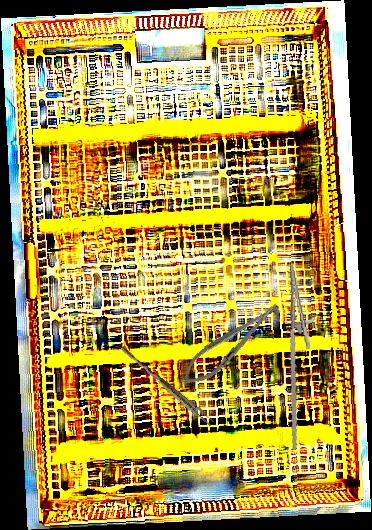Needle Holder: (266, 262, 334, 451), (172, 294, 288, 395)
Tissue Forceps: (118, 344, 216, 428)
